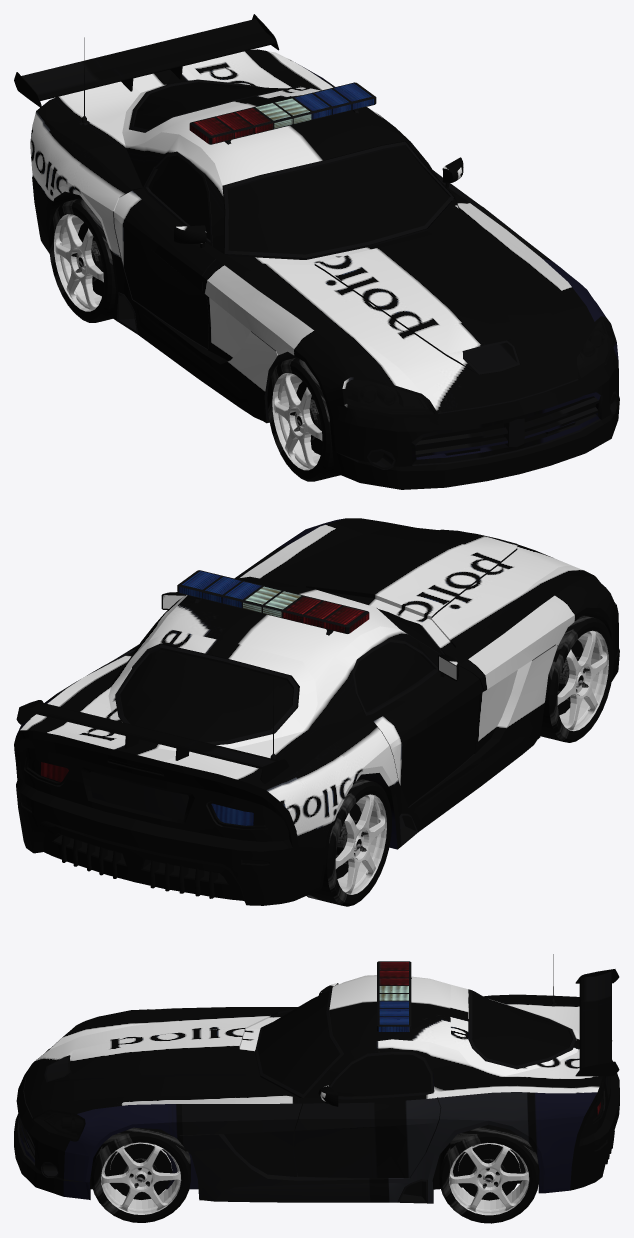
Rendered from PoliceCar2.FBX.
3 views of the same model, one above another, from view 1: azimuth 30°, elevation 25°; view 2: azimuth 150°, elevation 25°; view 3: azimuth 270°, elevation 25° (orthographic). The views are drawn at different scales.
Parts seen in each view (by area): view 1: Body, BR, FR, Glass; view 2: Body, FR, BR; view 3: Body, BL, FL, Glass.
Part boxes in pixels (x1,y1,x2,y2): Body: (14, 14, 619, 489); BR: (49, 198, 116, 322); FR: (267, 357, 340, 481); Glass: (345, 319, 613, 414); Body: (14, 518, 619, 905); FR: (540, 615, 613, 742); BR: (306, 778, 391, 906); Body: (14, 954, 619, 1203); BL: (439, 1124, 539, 1223); FL: (91, 1127, 190, 1222); Glass: (35, 1039, 83, 1139).
Size of the model in its own units: 19.54 by 15.35 by 43.56.
